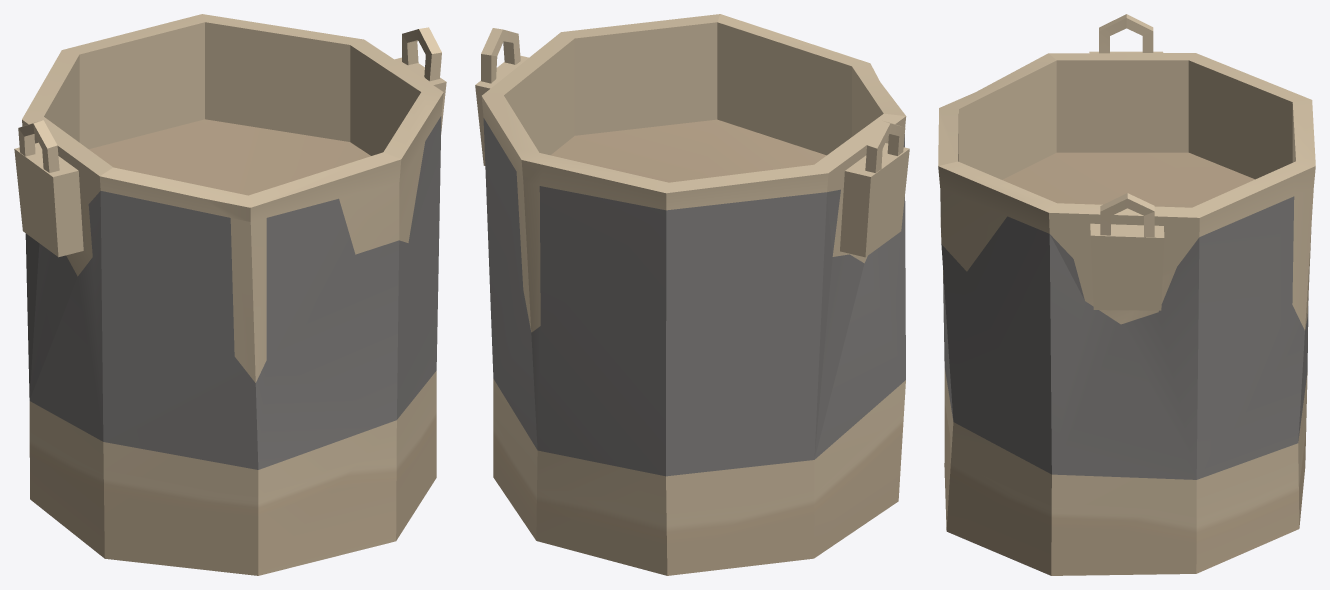
Rendered from SM_Prop_Paint_Can_Open_White_01.obj.
3 views of the same model, side by side, from view 1: azimuth 30°, elevation 25°; view 2: azimuth 150°, elevation 25°; view 3: azimuth 270°, elevation 25° (orthographic). The views are drawn at different scales.
Visible parts, largest first — view 1: SM_Prop_Paint_Can_Open_White_01_0; view 2: SM_Prop_Paint_Can_Open_White_01_0; view 3: SM_Prop_Paint_Can_Open_White_01_0.
Boxes of the visible parts, x1,y1,x2,y2 form: SM_Prop_Paint_Can_Open_White_01_0: [14, 14, 446, 575]; SM_Prop_Paint_Can_Open_White_01_0: [475, 14, 909, 575]; SM_Prop_Paint_Can_Open_White_01_0: [938, 14, 1315, 575].
Size of the model in its own units: 0.3603 by 0.3596 by 0.3123.
1 material, 1 textured.
